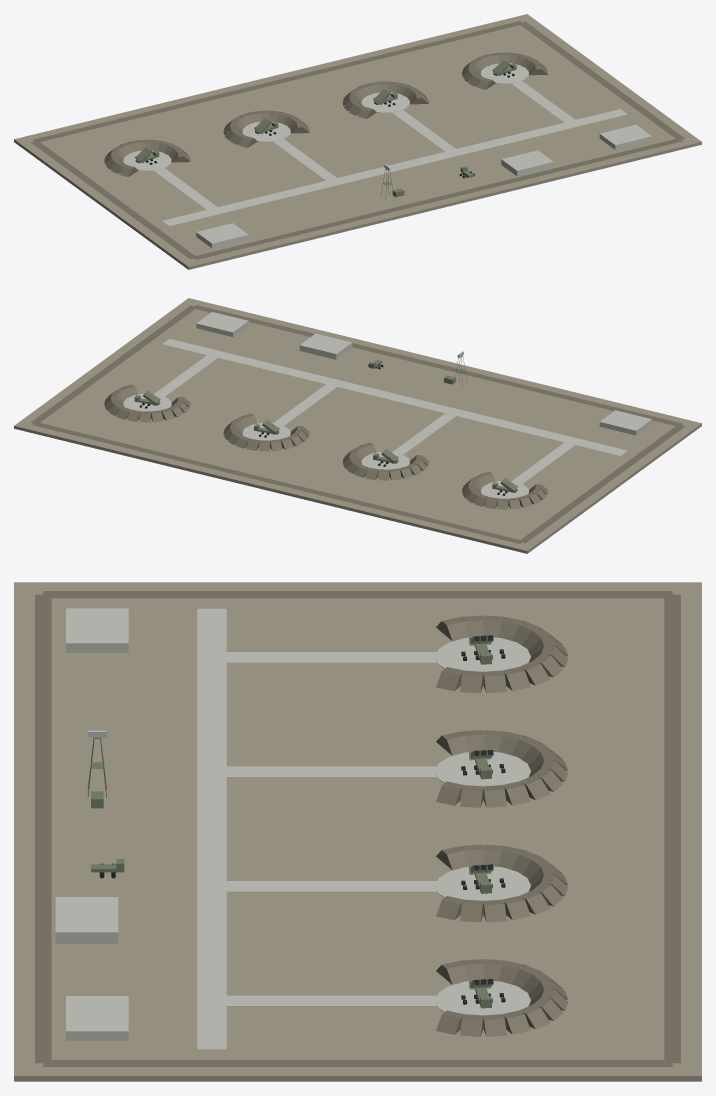
The model's file is pla_battery_yj12b.glb.
3 renders of one model, top to bottom at view 1: azimuth 30°, elevation 25°; view 2: azimuth 150°, elevation 25°; view 3: azimuth 270°, elevation 25°, orthographic. The views are drawn at different scales.
Parts seen in each view (by area): view 1: earth, earth_dark, concrete, drab; view 2: earth, earth_dark, concrete, drab; view 3: earth, earth_dark, concrete, drab, rubber.
Boxes of the visible parts, x1,y1,x2,y2 form: earth: [14, 14, 701, 269]; earth_dark: [31, 21, 684, 259]; concrete: [123, 63, 651, 248]; drab: [135, 60, 516, 200]; earth: [14, 298, 701, 553]; earth_dark: [31, 305, 684, 543]; concrete: [123, 312, 651, 498]; drab: [134, 355, 517, 492]; earth: [14, 582, 701, 1081]; earth_dark: [35, 591, 680, 1066]; concrete: [55, 608, 530, 1049]; drab: [87, 635, 493, 1008]; rubber: [99, 635, 505, 1004].
Bounding box in the file's own units: 10 × 0.6446 × 5.89.
